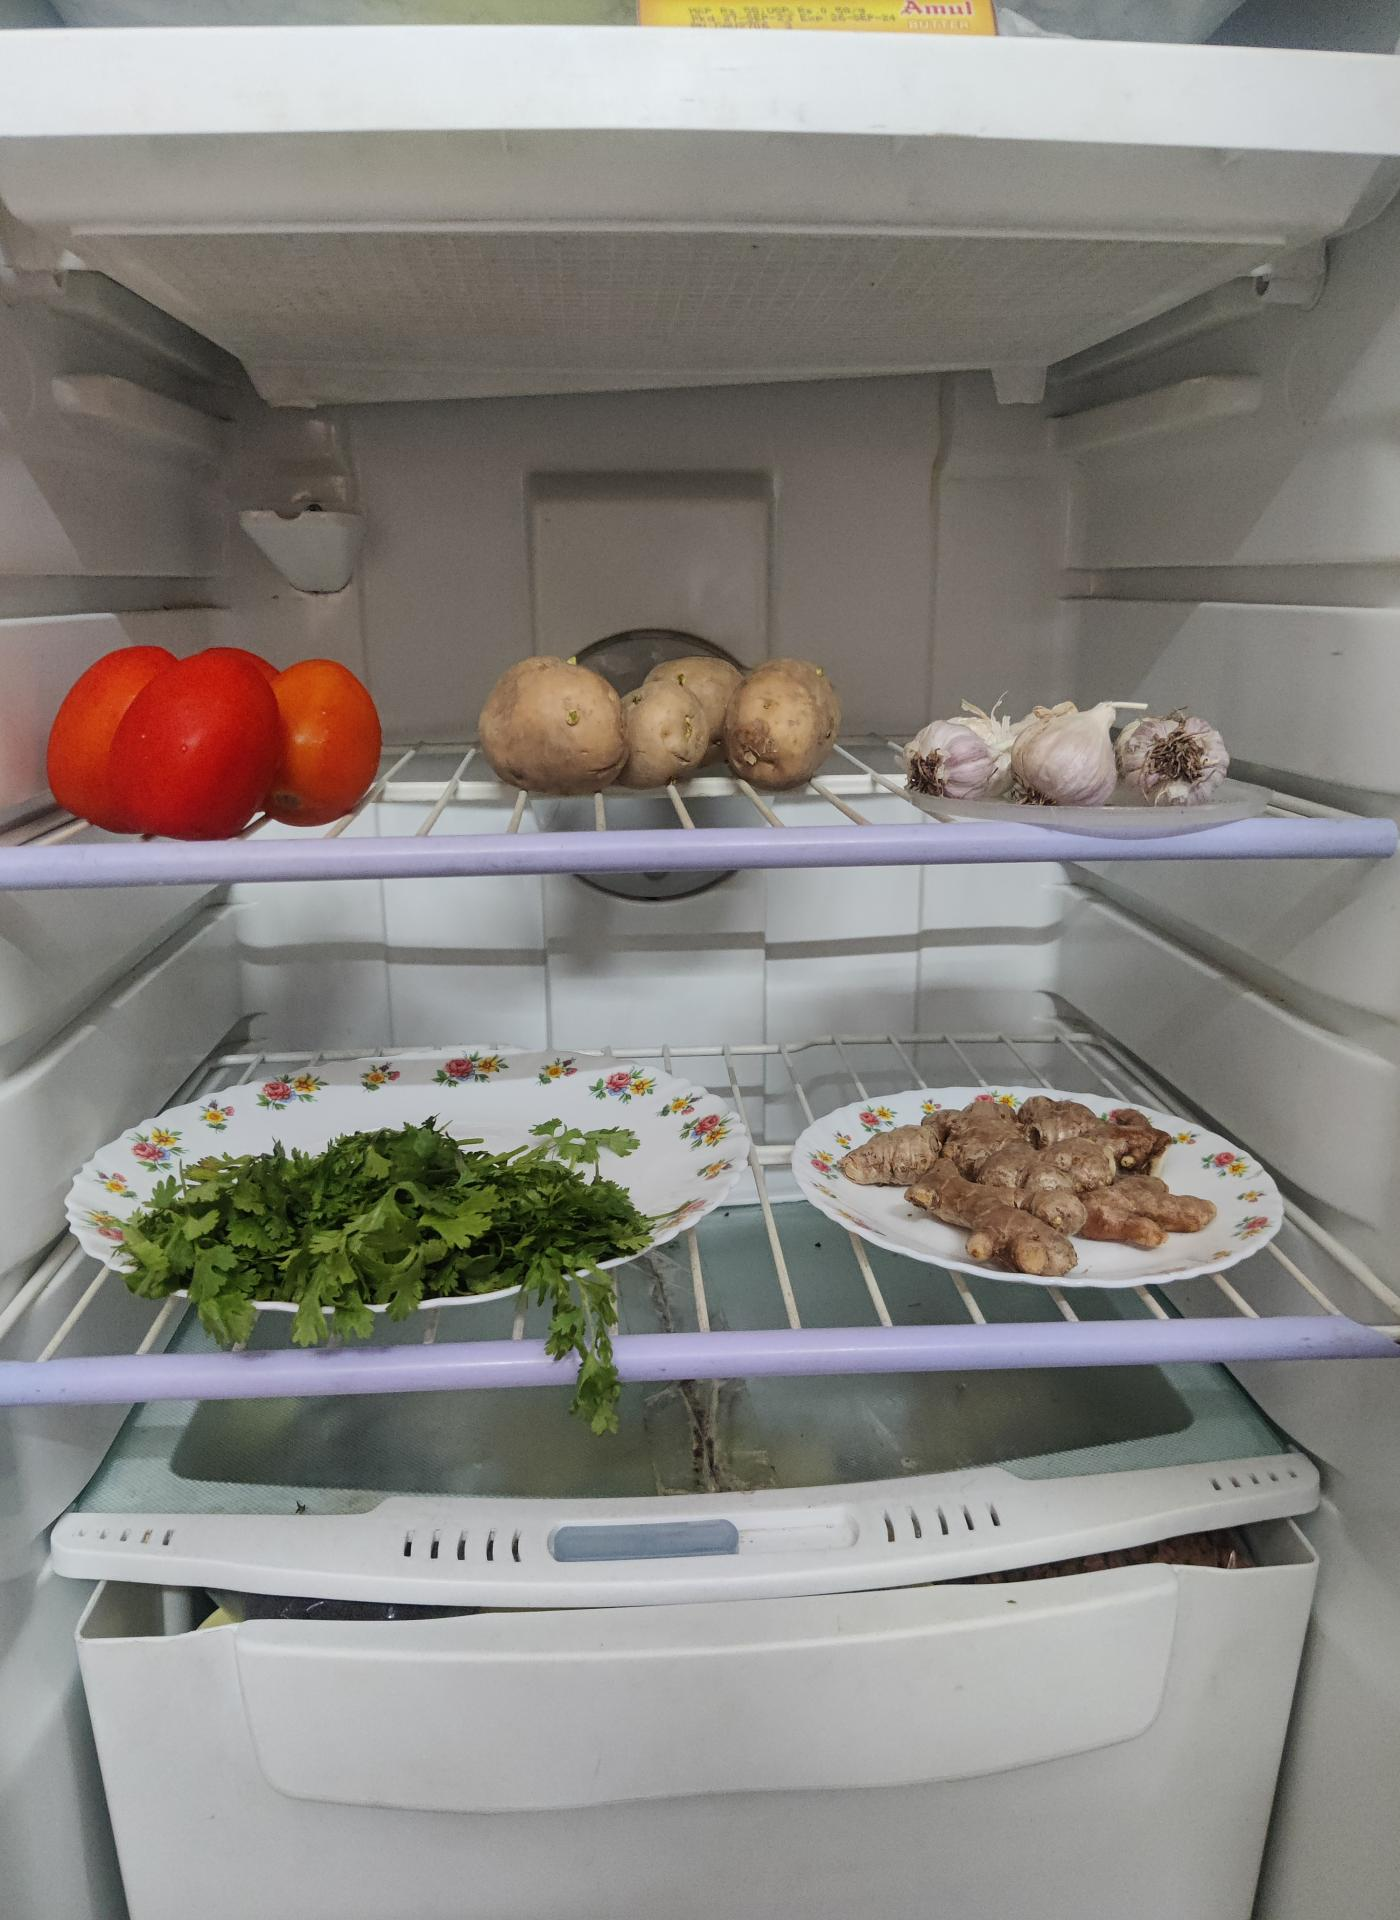coriander: (106, 1127, 665, 1346)
garlic: (912, 693, 1227, 798)
ginger: (835, 1096, 1202, 1272)
potato: (477, 641, 850, 789)
tomato: (46, 638, 389, 829)
